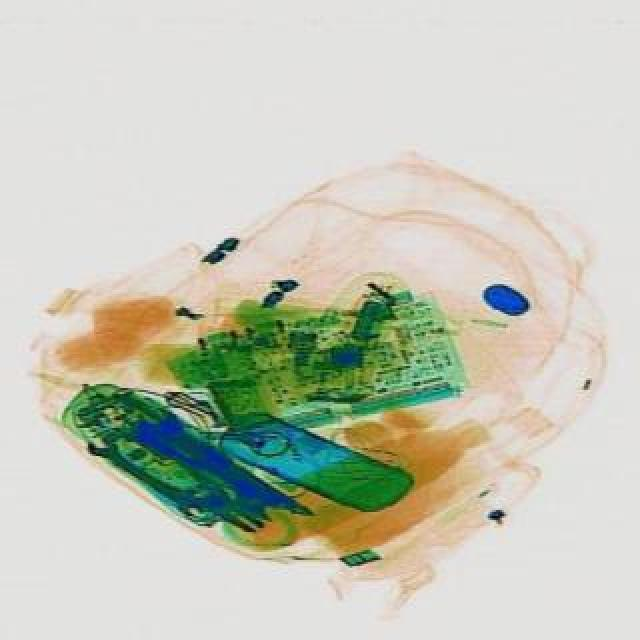scissors: (126, 398, 292, 520), (80, 426, 204, 522)
